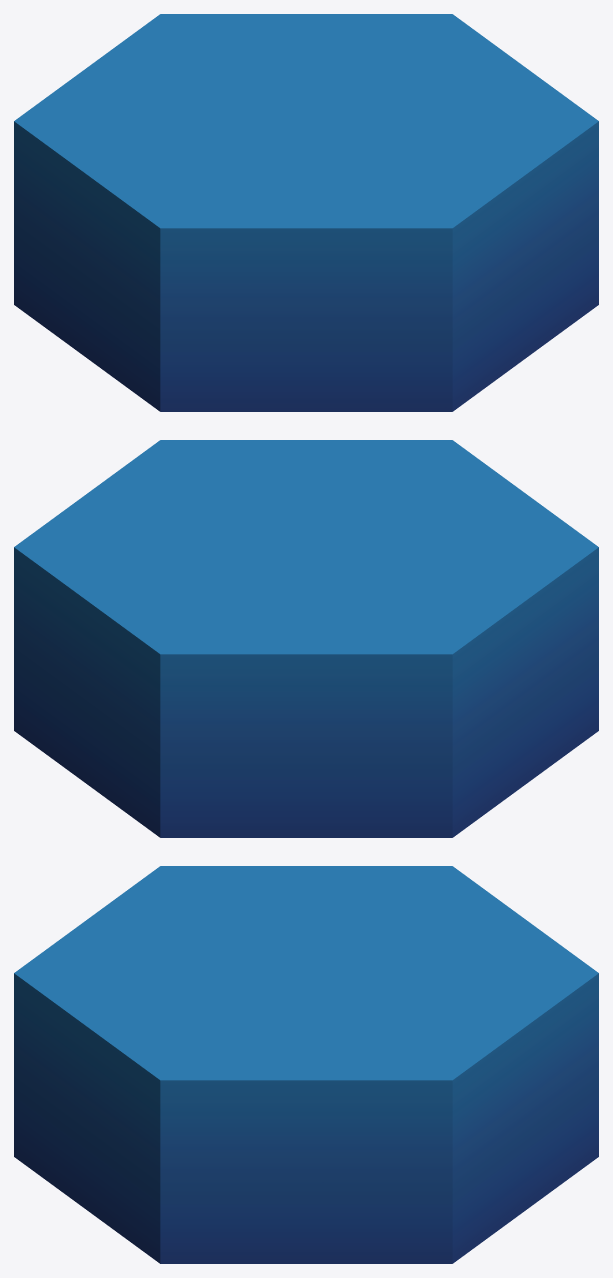
Rendered from hex_tile_water.glb.
The picture shows the model from 3 angles, top to bottom: view 1: azimuth 30°, elevation 25°; view 2: azimuth 150°, elevation 25°; view 3: azimuth 270°, elevation 25°; orthographic projection.
Parts seen in each view (by area): view 1: hex_water; view 2: hex_water; view 3: hex_water.
Part boxes in pixels (<box>): hex_water: <box>14,14,598,411</box>; hex_water: <box>14,440,598,837</box>; hex_water: <box>14,866,598,1263</box>.
Bounding box in the file's own units: 2 × 0.7999 × 2.31.
Materials: 1 (1 with a texture image).
